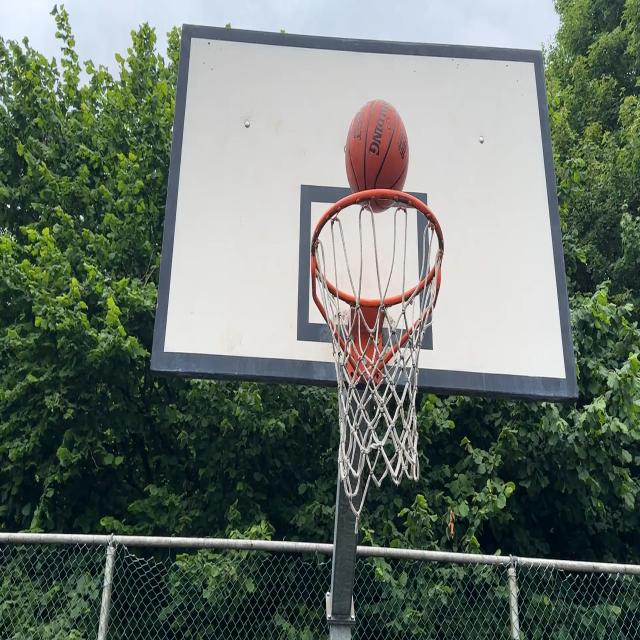rebound_hit: (342, 103, 408, 215)
